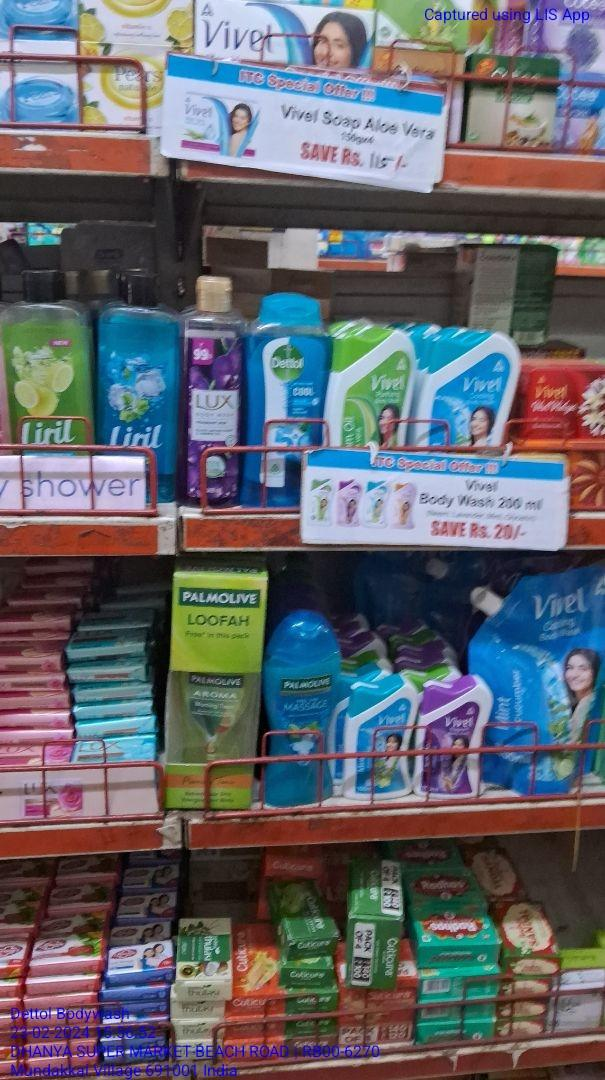Dettol_Bodywash_Cool: (249, 297, 330, 504)
Liril_Cooling_Mint_Body_Wash_250ML: (1, 273, 96, 454), (97, 277, 177, 459)
Lux_Black_Orchid_Scent_and_Juniper_Oil_Body_Wash_245ML: (180, 277, 244, 506)
Palmolive_Aroma_Moments_Feel_The_Massage_Shower_Gel_250ML: (263, 616, 336, 807)
